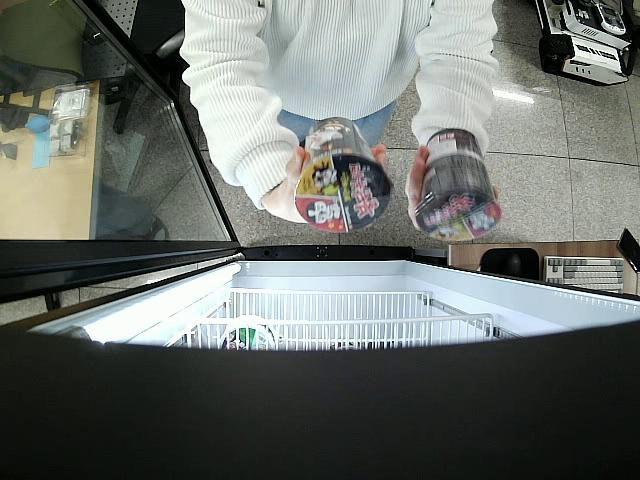08_buldak_S: (294, 116, 392, 234), (418, 127, 499, 241)
